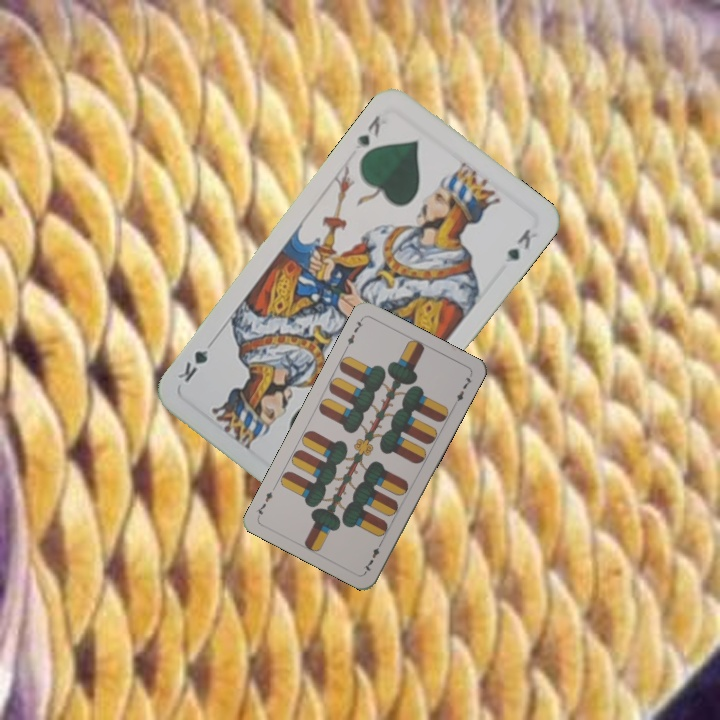E7: (359, 537, 385, 575), (341, 314, 366, 352)
GK: (351, 110, 383, 154)
